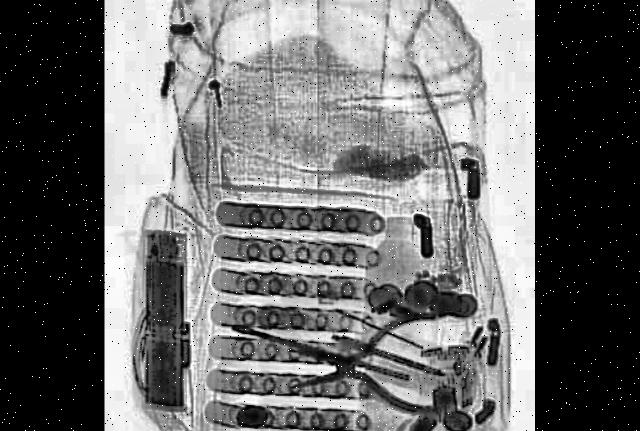Pliers: (288, 306, 440, 411)
